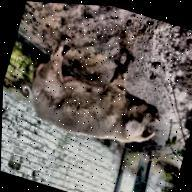boar: (14, 26, 175, 159)
